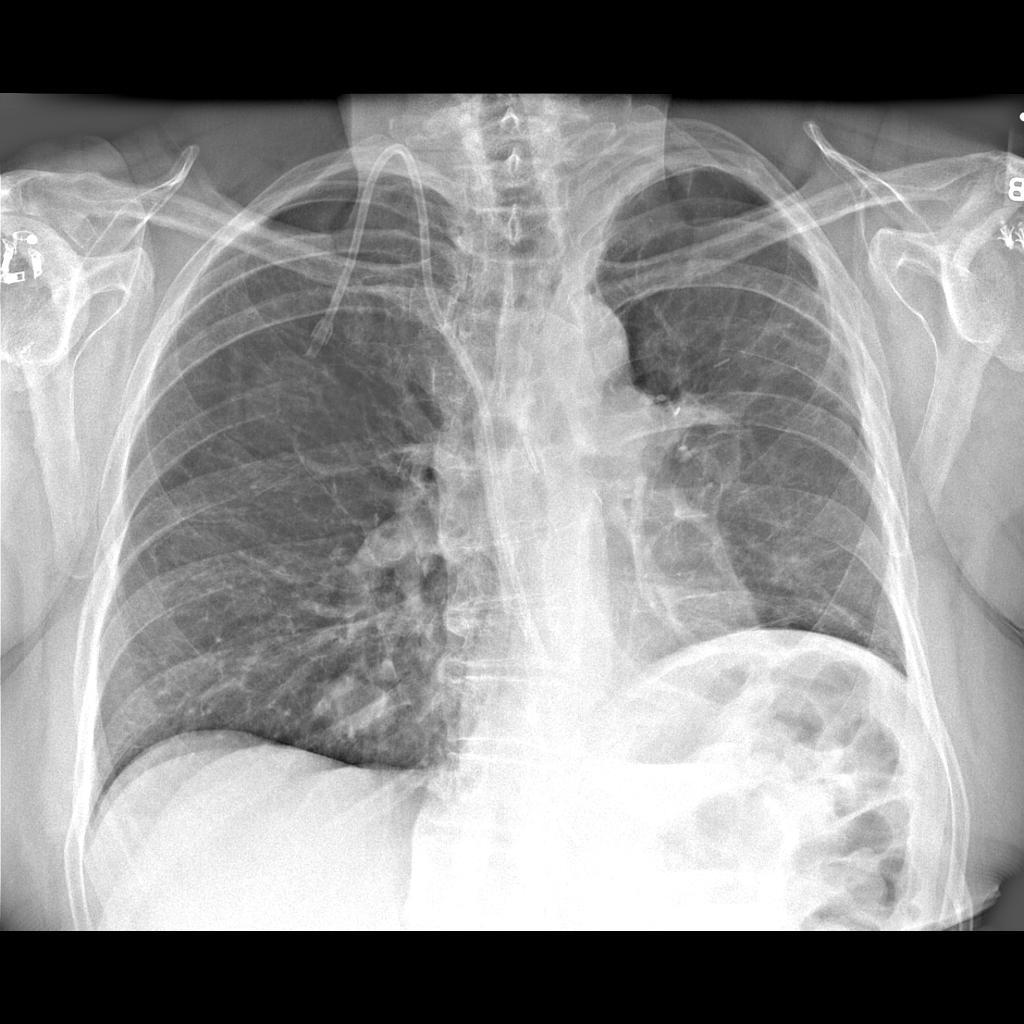Nodule: (309, 674, 400, 752)
